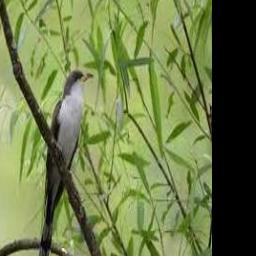Cuckoo: (36, 70, 93, 256)
